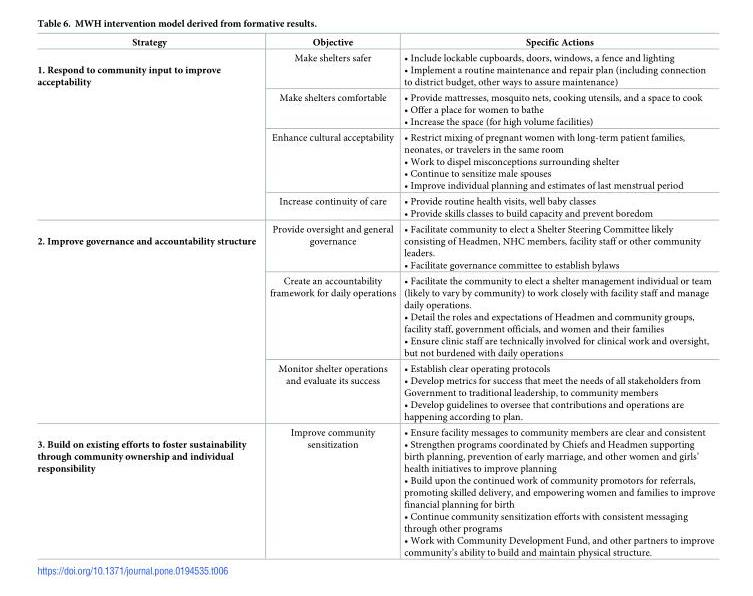table: (36, 36, 714, 557)
table column: (399, 36, 714, 557), (36, 36, 262, 557), (262, 36, 399, 557)
table column header: (36, 36, 714, 49)
table row: (36, 424, 714, 557), (36, 272, 714, 360), (36, 129, 714, 193), (36, 360, 714, 424), (36, 220, 714, 272), (36, 49, 714, 89), (36, 89, 714, 129), (36, 193, 714, 220), (36, 36, 714, 49)
table spanning cell: (36, 220, 262, 424), (36, 49, 262, 220)
